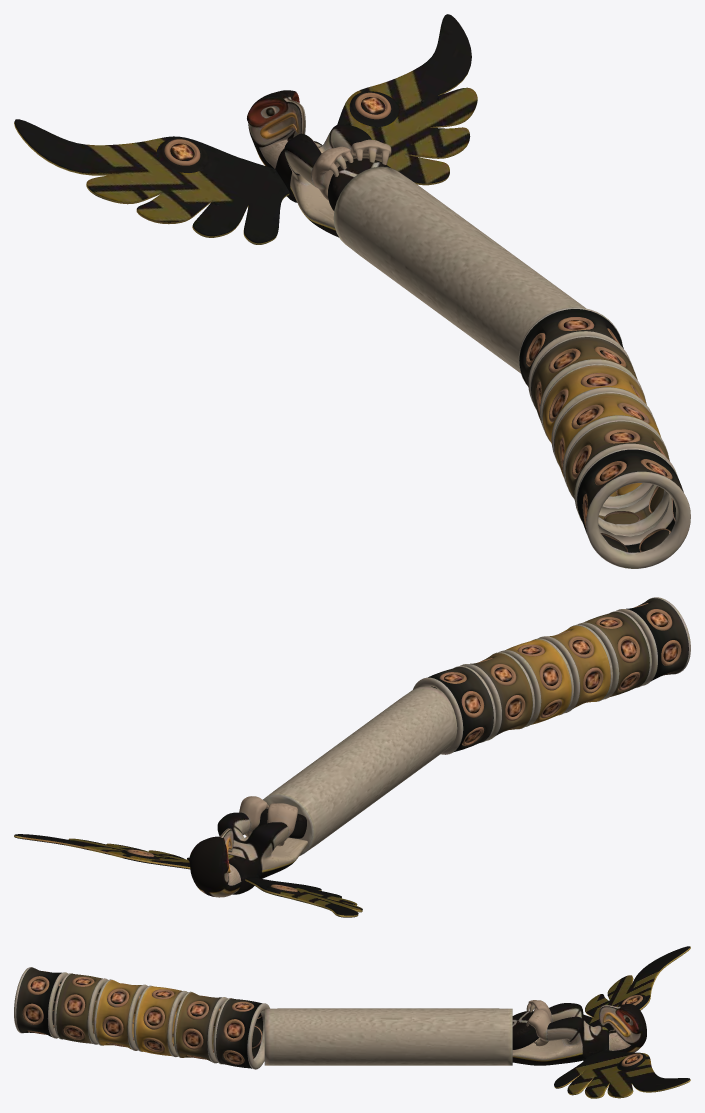
File: totem_odin_t6.glb
The picture shows the model from 3 angles, top to bottom: view 1: azimuth 30°, elevation 25°; view 2: azimuth 150°, elevation 25°; view 3: azimuth 270°, elevation 25°; orthographic projection. The views are drawn at different scales.
Visible parts, largest first — view 1: Eagle_Eagle_0, Bands, Pole_Pole_0; view 2: Bands, Pole_Pole_0, Eagle_Eagle_0; view 3: Bands, Pole_Pole_0, Eagle_Eagle_0.
Part boxes in pixels (x1,y1,x2,y2): Eagle_Eagle_0: [14, 14, 477, 244]; Bands: [518, 307, 690, 568]; Pole_Pole_0: [333, 166, 585, 373]; Bands: [413, 597, 690, 754]; Pole_Pole_0: [263, 686, 457, 856]; Eagle_Eagle_0: [14, 796, 362, 917]; Bands: [14, 967, 269, 1069]; Pole_Pole_0: [264, 1008, 512, 1065]; Eagle_Eagle_0: [512, 946, 690, 1098].
Bounding box in the file's own units: 1.02 × 0.2194 × 2.16.
2 materials, 2 textured.
